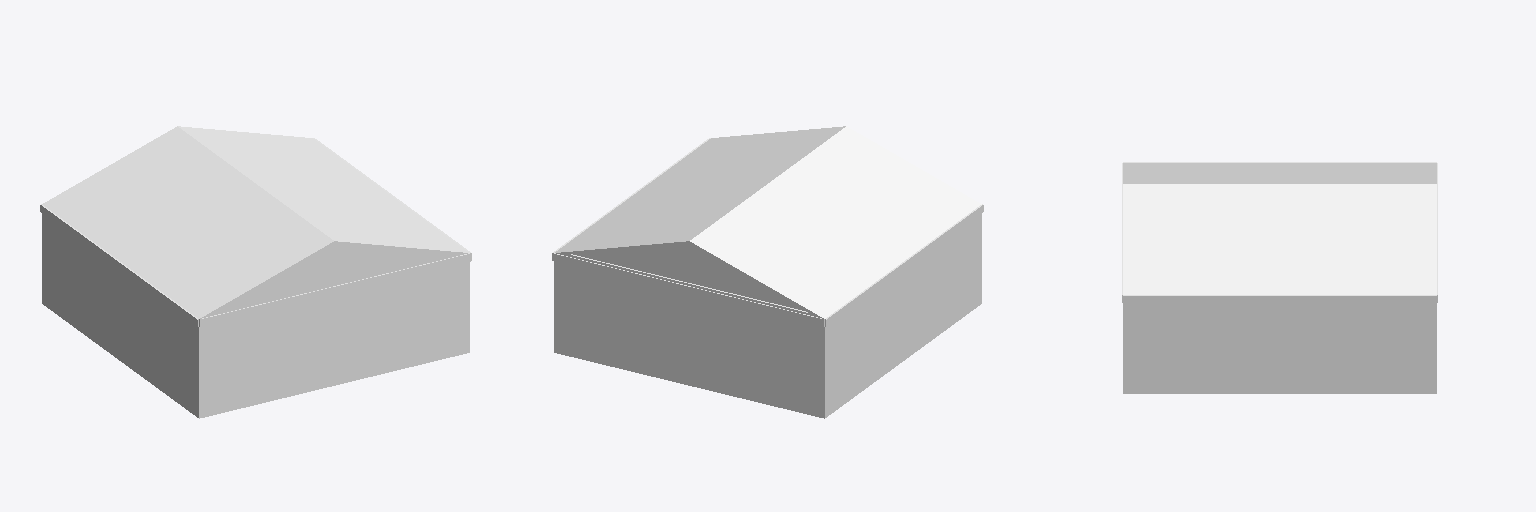
File: room.obj
3 views of the same model, side by side, from view 1: azimuth 30°, elevation 25°; view 2: azimuth 150°, elevation 25°; view 3: azimuth 270°, elevation 25° (orthographic).
Parts seen in each view (by area): view 1: g0; view 2: g0; view 3: g0.
Boxes of the visible parts, x1=… form: g0: x1=40, y1=126, x2=471, y2=418; g0: x1=552, y1=126, x2=983, y2=418; g0: x1=1122, y1=162, x2=1437, y2=393.
Bounding box in the file's own units: 16 × 8.07 × 16.